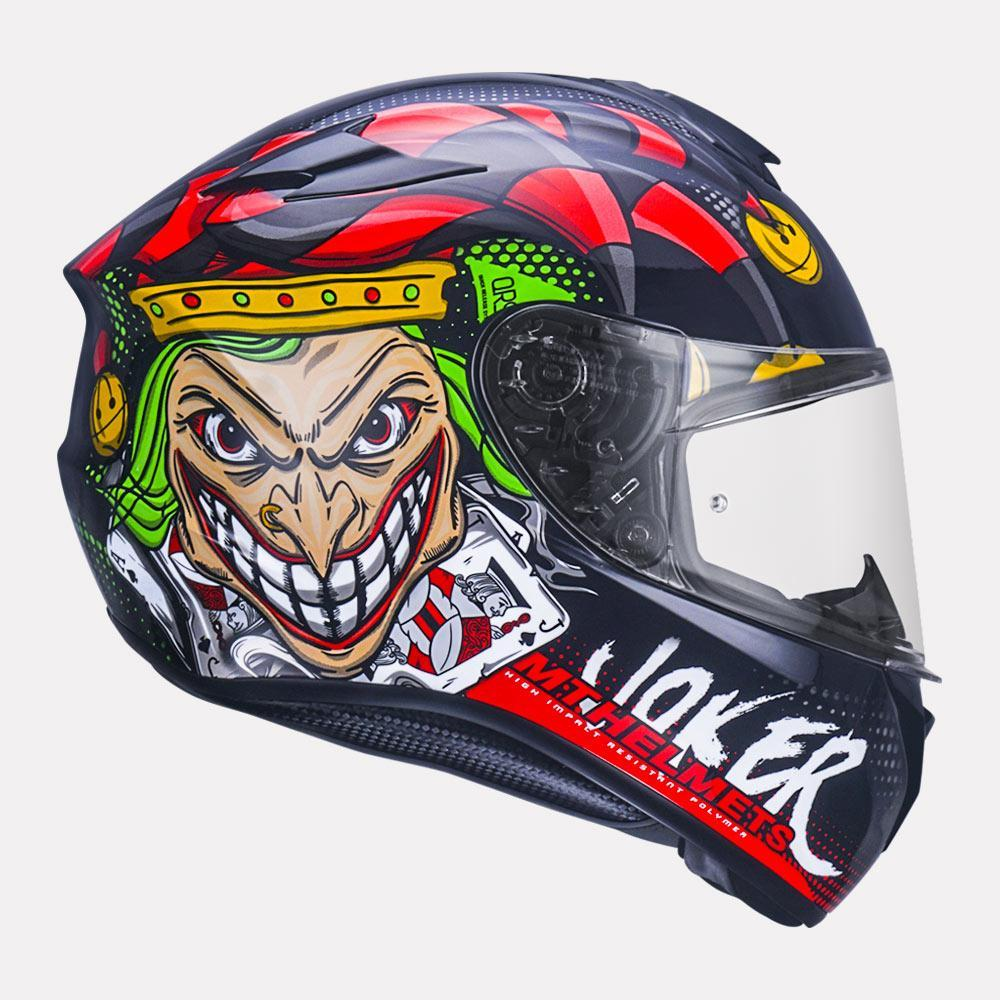helmet: (52, 41, 956, 949)
